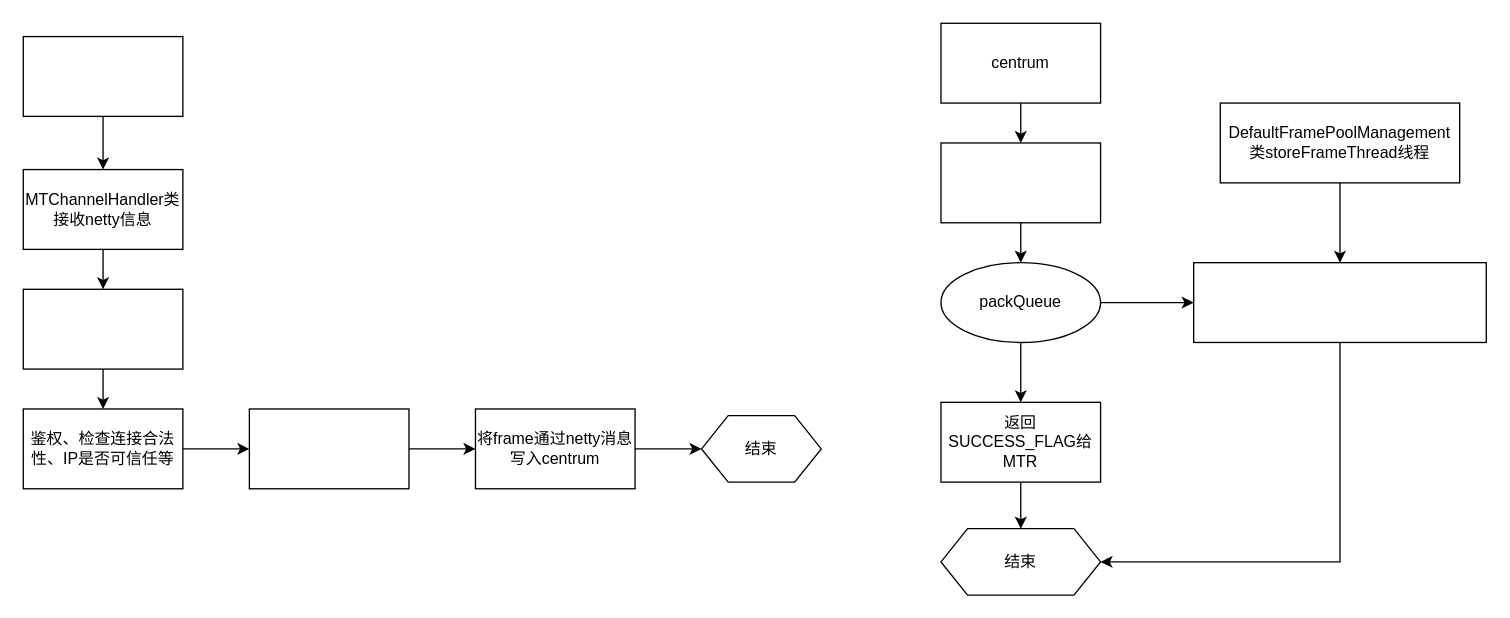
The diagram is 1510 pixels wide and 618 high, and some of its shapes have lost their labels. The shapes that lost their labels are listed below. From the top down, each one's box as (x1, y1, x2, y2) in pixels, then its label:
(22, 35, 183, 116): MTR
(940, 142, 1101, 223): 将msgPack放进队列
(1192, 261, 1486, 342): 取出packQueue数据，将frame入库到GSMS_CENTRUM_FRAME、GSMS_CENTRUM_FRAME_CHANNEL
(22, 288, 183, 369): 解码加密消息
(248, 408, 409, 489): 过滤链
